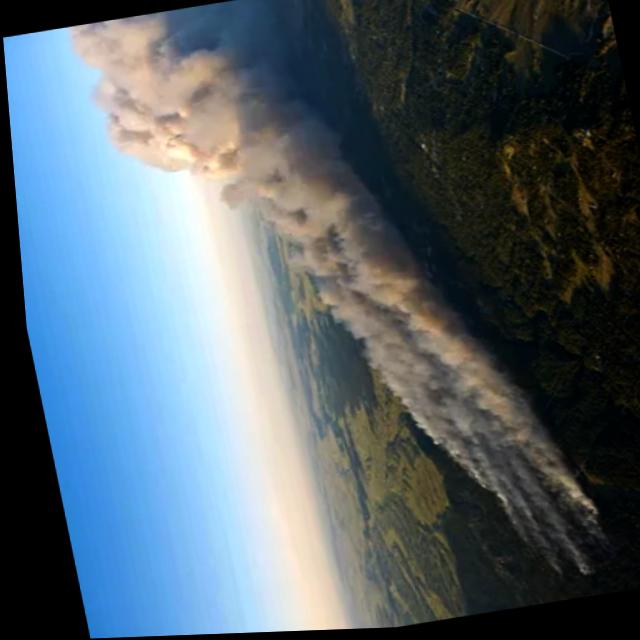Smoke: (61, 0, 600, 638)
